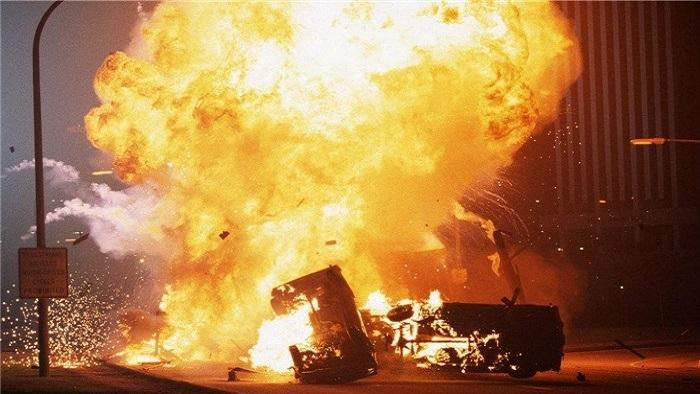fire: (84, 3, 584, 371)
